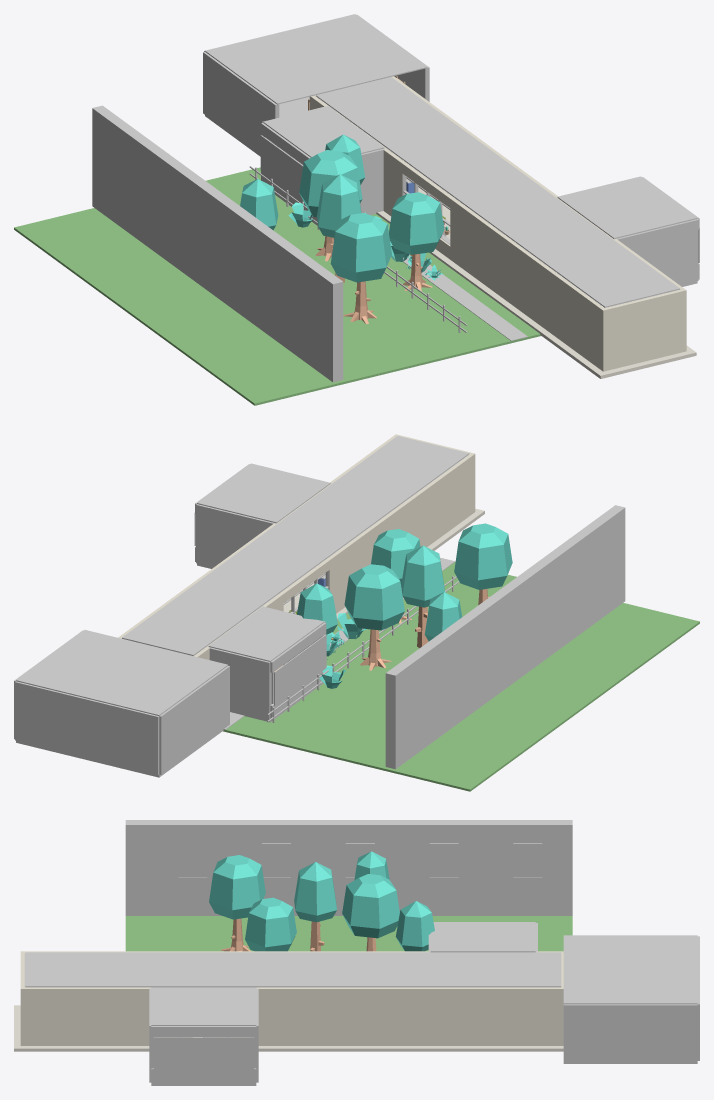
The model's file is set.glb.
3 renders of one model, top to bottom at view 1: azimuth 30°, elevation 25°; view 2: azimuth 150°, elevation 25°; view 3: azimuth 270°, elevation 25°, orthographic. The views are drawn at different scales.
Visible parts, largest first — view 1: grass, brick, ceiling, r_ceiling, wall, k_leafsGreen, r_wall, floor, path, r_sky, k_woodBark, k_grass (+1 smaller); view 2: grass, brick, r_wall, ceiling, r_ceiling, k_leafsGreen, wall, r_sky, k_woodBark, k_grass, fence, floor (+1 smaller); view 3: brick, wall, ceiling, r_ceiling, k_leafsGreen, r_wall, grass, window_far, r_sky, floor, k_woodBark, r_floor.
Part boxes in pixels (x1=…): grass: x1=14, y1=167, x2=540, y2=405; brick: x1=92, y1=105, x2=343, y2=382; ceiling: x1=316, y1=77, x2=679, y2=307; r_ceiling: x1=205, y1=14, x2=697, y2=239; wall: x1=309, y1=76, x2=686, y2=371; k_leafsGreen: x1=240, y1=134, x2=444, y2=282; r_wall: x1=203, y1=14, x2=699, y2=285; floor: x1=376, y1=187, x2=696, y2=378; path: x1=403, y1=254, x2=527, y2=340; r_sky: x1=260, y1=135, x2=699, y2=262; k_woodBark: x1=315, y1=236, x2=432, y2=323; k_grass: x1=288, y1=202, x2=443, y2=280; grass: x1=223, y1=562, x2=699, y2=791; brick: x1=385, y1=505, x2=625, y2=769; r_wall: x1=14, y1=464, x2=331, y2=775; ceiling: x1=122, y1=436, x2=469, y2=655; r_ceiling: x1=16, y1=463, x2=330, y2=715; k_leafsGreen: x1=297, y1=523, x2=512, y2=641; wall: x1=118, y1=434, x2=475, y2=659; r_sky: x1=194, y1=513, x2=326, y2=705; k_woodBark: x1=360, y1=589, x2=489, y2=670; k_grass: x1=319, y1=613, x2=366, y2=688; fence: x1=267, y1=575, x2=459, y2=722; floor: x1=283, y1=508, x2=484, y2=620; brick: x1=125, y1=820, x2=572, y2=915; wall: x1=20, y1=951, x2=563, y2=1045; ceiling: x1=25, y1=952, x2=561, y2=987; r_ceiling: x1=151, y1=922, x2=697, y2=1025; k_leafsGreen: x1=209, y1=851, x2=434, y2=951; r_wall: x1=149, y1=923, x2=699, y2=1083; grass: x1=125, y1=916, x2=572, y2=951; window_far: x1=178, y1=843, x2=542, y2=896; r_sky: x1=153, y1=1037, x2=254, y2=1070; floor: x1=14, y1=1005, x2=563, y2=1051; k_woodBark: x1=220, y1=918, x2=376, y2=951; r_floor: x1=151, y1=1062, x2=697, y2=1085.
Size of the model in its own units: 44.15 by 10.17 by 61.4.
